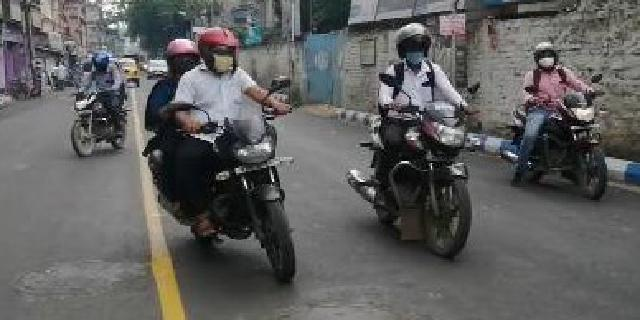Motorbike: (140, 25, 307, 289), (340, 17, 488, 261), (500, 44, 616, 204), (61, 49, 131, 159)
